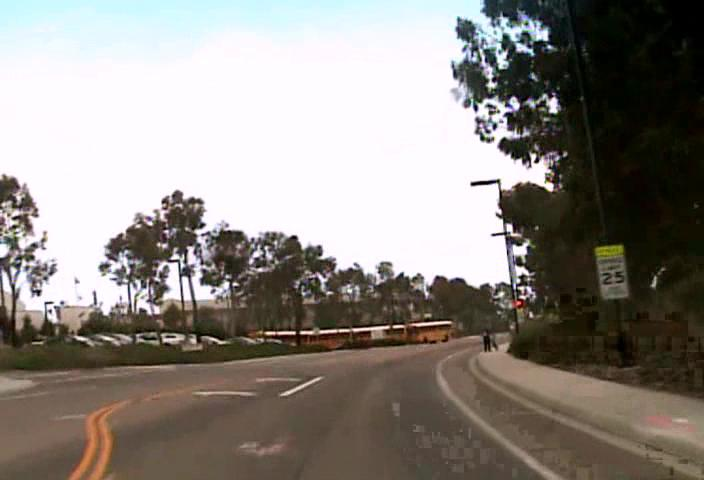schoolSpeedLimit25: (593, 244, 630, 299)
